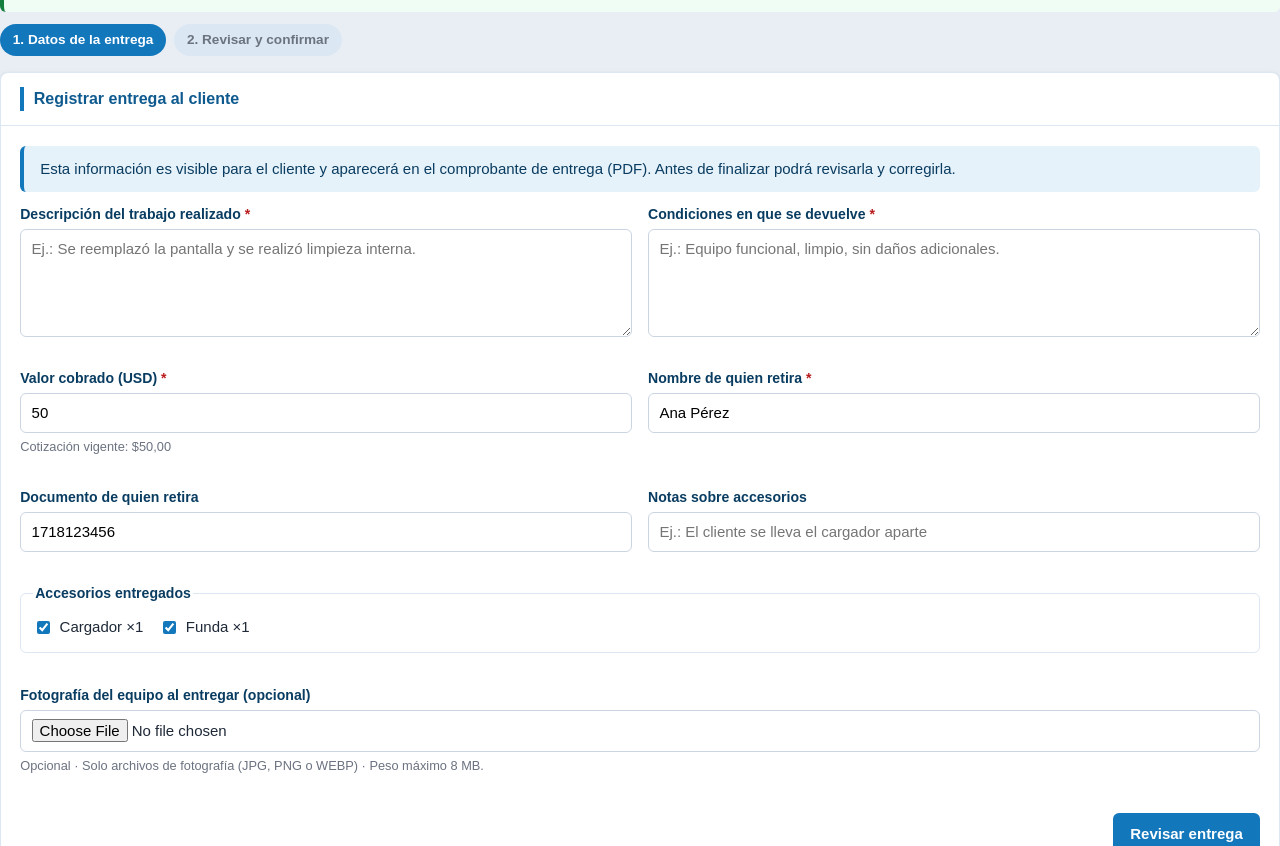
Test: DeliverySection — editar, revisar y confirmar › rechaza valores negativos o con letras en Valor cobrado y pide un valor válido (CA-032)
The image size is (1280, 846).
Type "Cambio de pantalla" into the text box labelled "Descripción del trabajo realizado *".
click(326, 283); type("Cambio de pantalla")  # box [20,229,632,337]
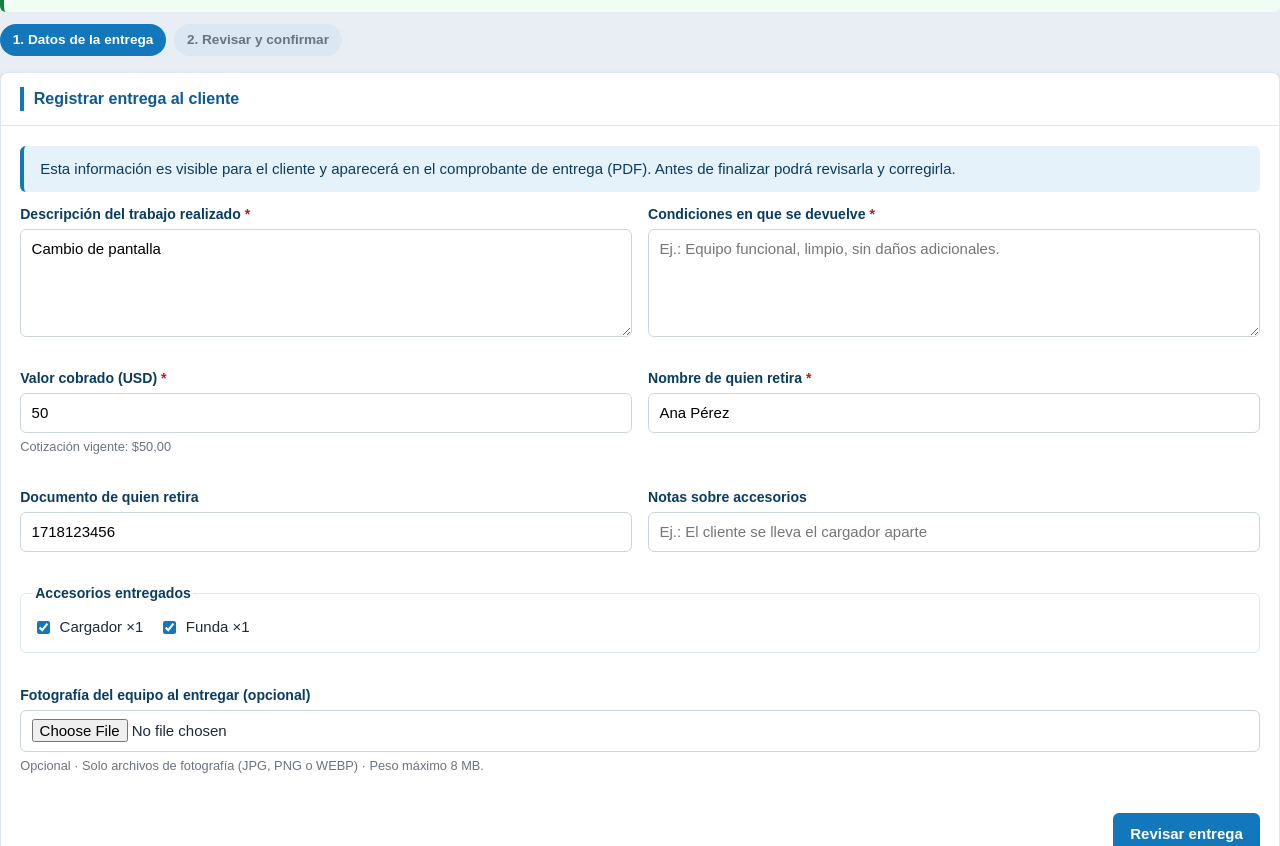
Type "Funcional y limpio" into the text box labelled "Condiciones en que se devuelve *".
click(954, 283); type("Funcional y limpio")  # box [648,229,1260,337]
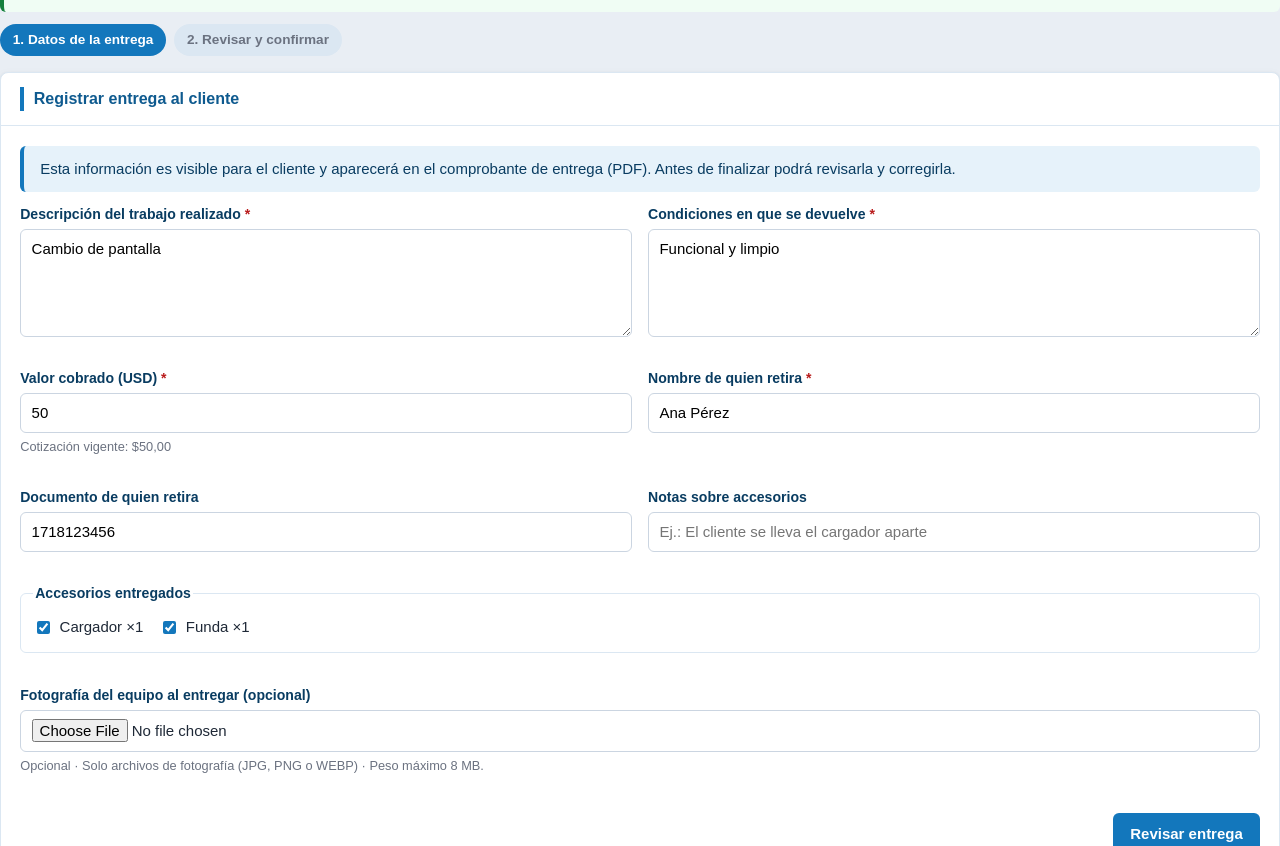
Replace the text in the field labelled "Valor cobrado (USD) *" with "abc" at (326, 413), box [20,393,632,433]
(page scrolled)
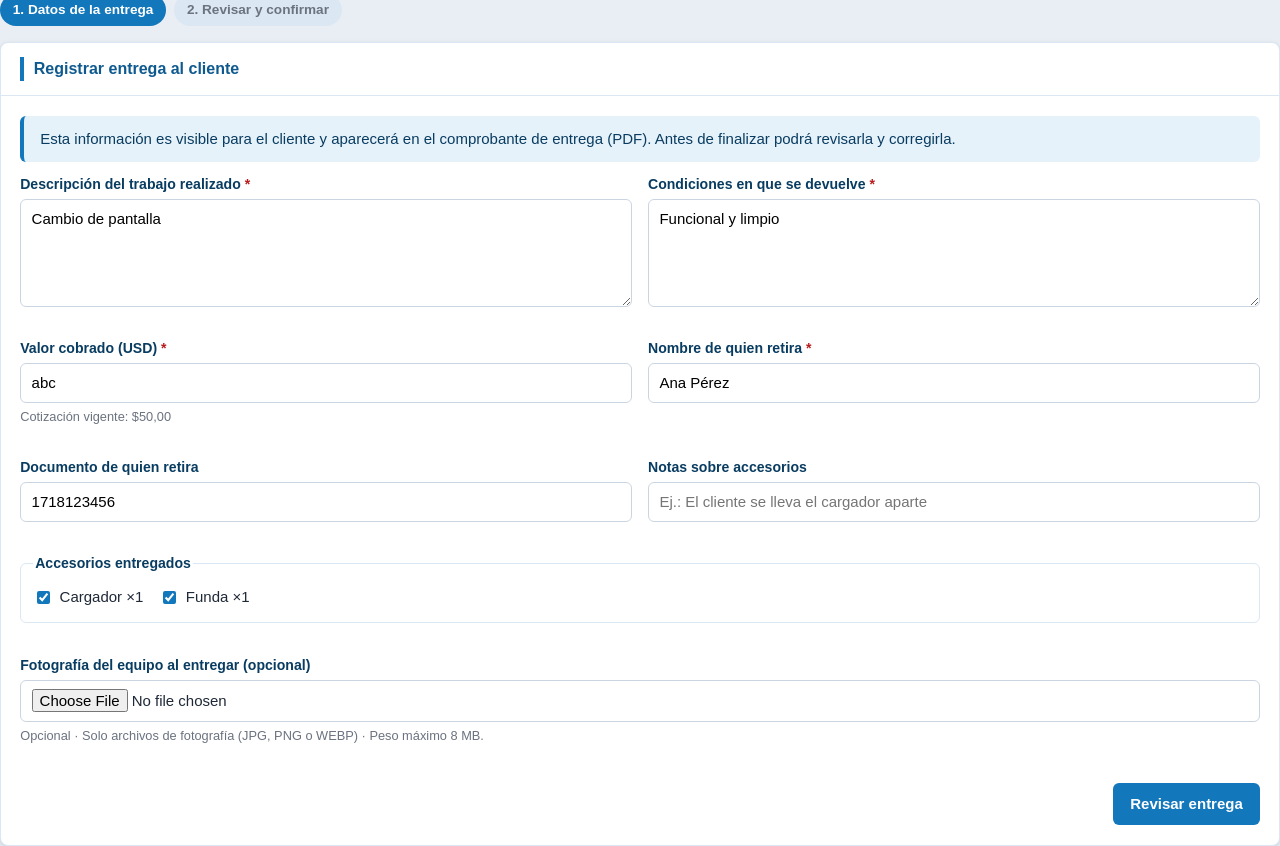
Click the button "Revisar entrega".
click(1187, 804)  # box [1113,783,1260,826]
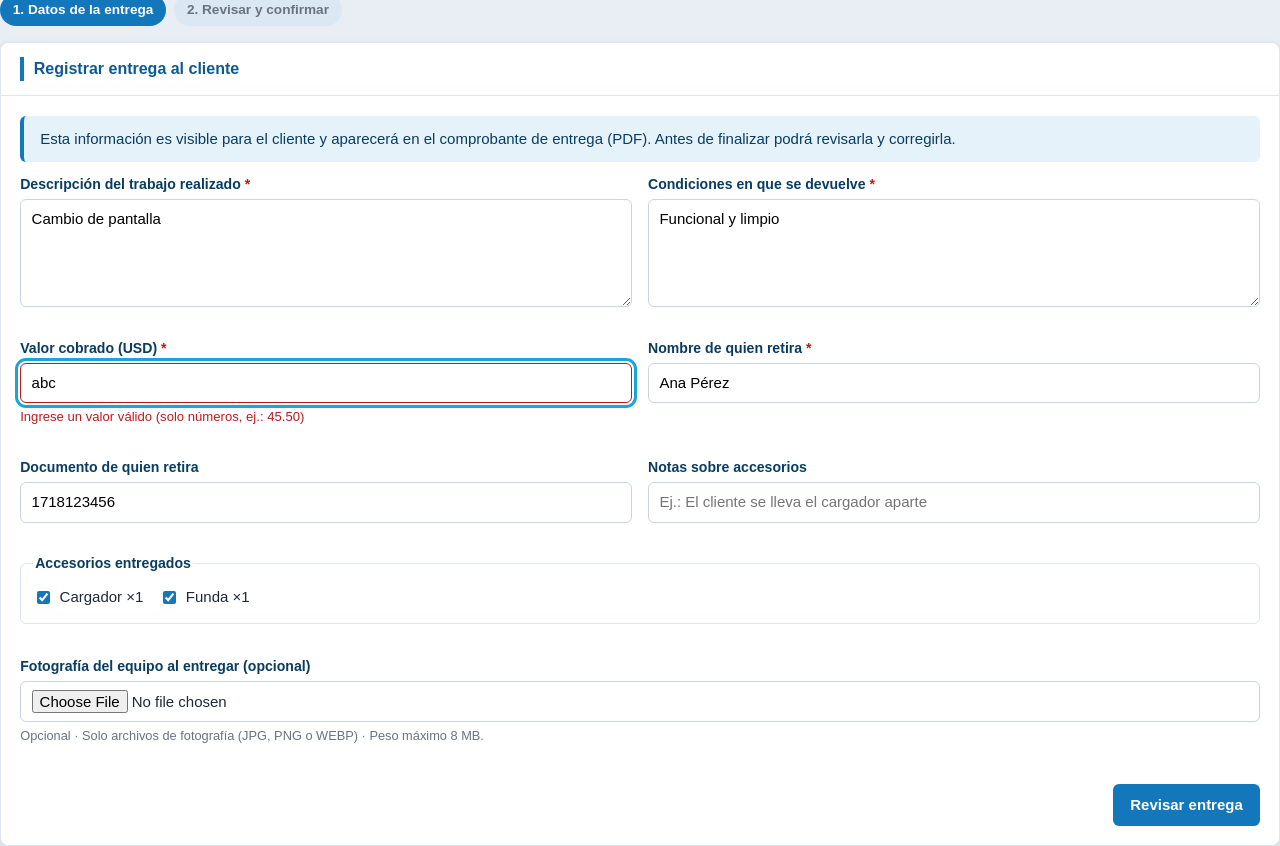
Result: the text "Ingrese un valor válido (solo números, ej.: 45.50)" is shown at [20,409,304,424]
Replace the text in the field labelled "Valor cobrado (USD) *" with "-15" at (326, 383), box [20,363,632,403]
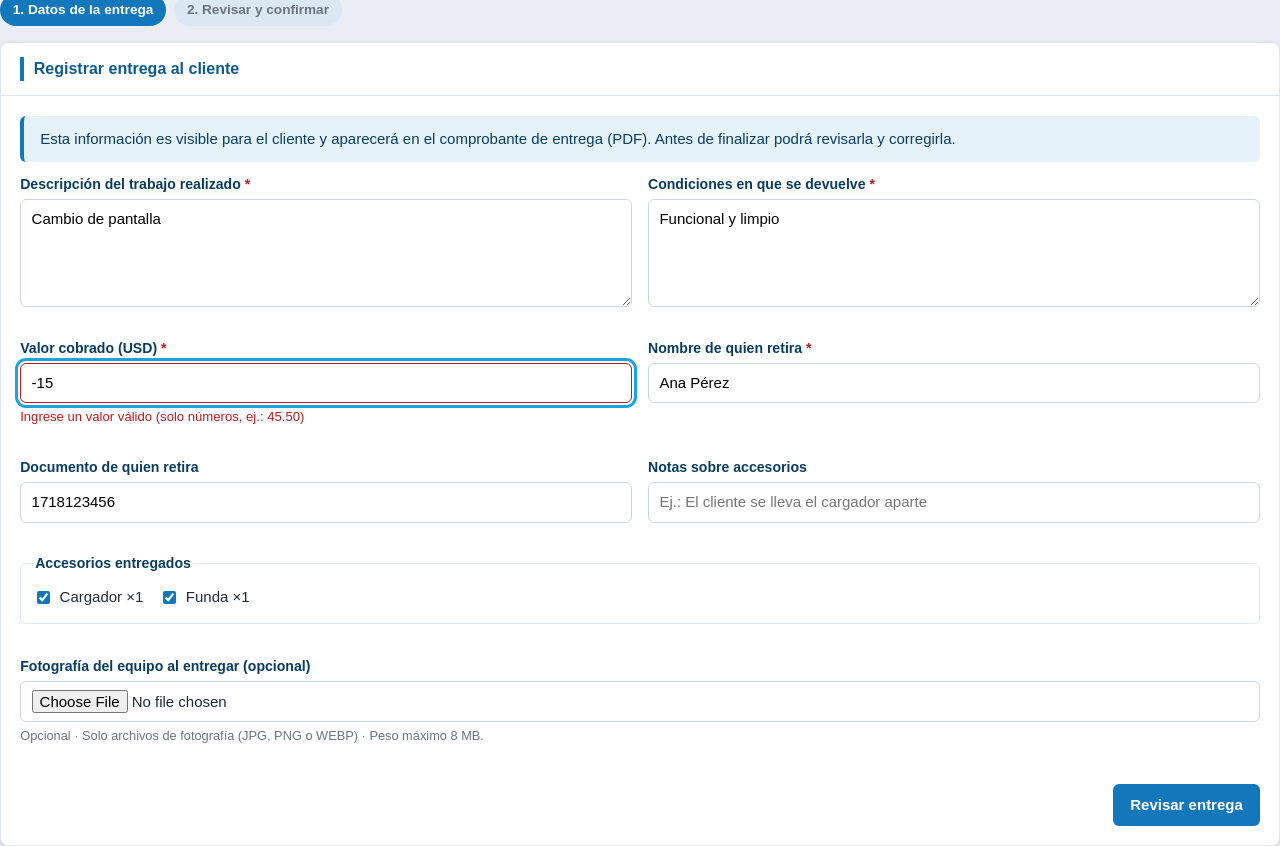
Click the button "Revisar entrega".
click(1187, 805)  # box [1113,784,1260,826]
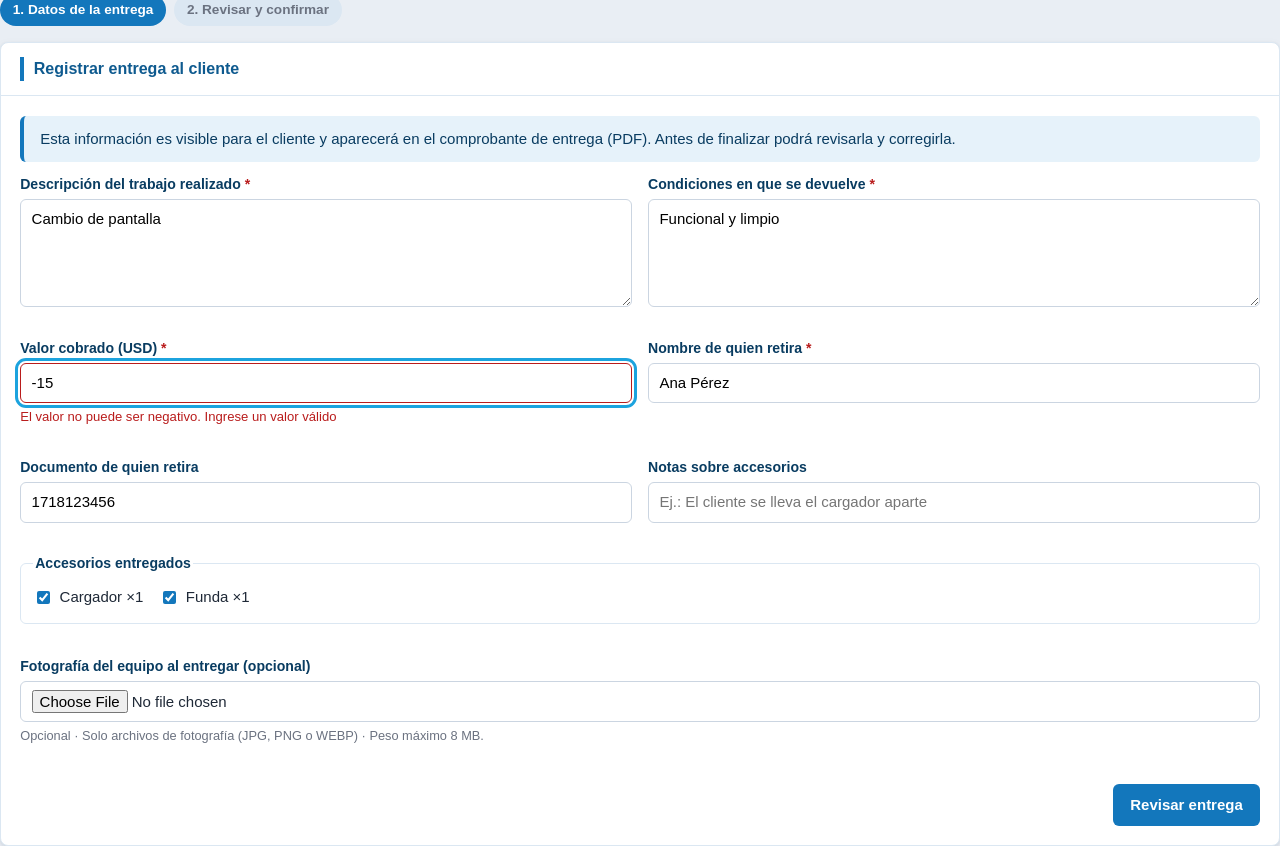
Result: the text "El valor no puede ser negativo. Ingrese un valor válido" is shown at [20,409,336,424]
